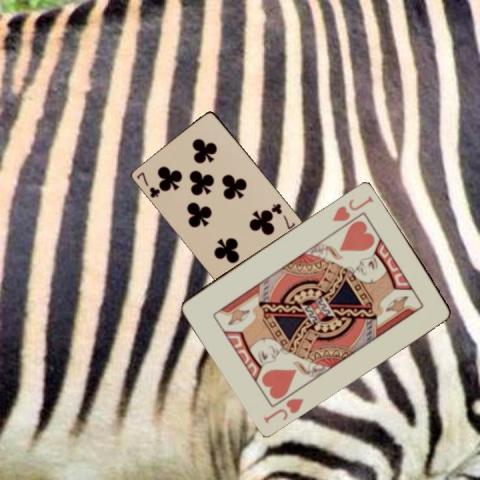7c: (269, 200, 297, 230), (134, 170, 162, 200)
Jh: (330, 192, 376, 222), (260, 394, 305, 424)
